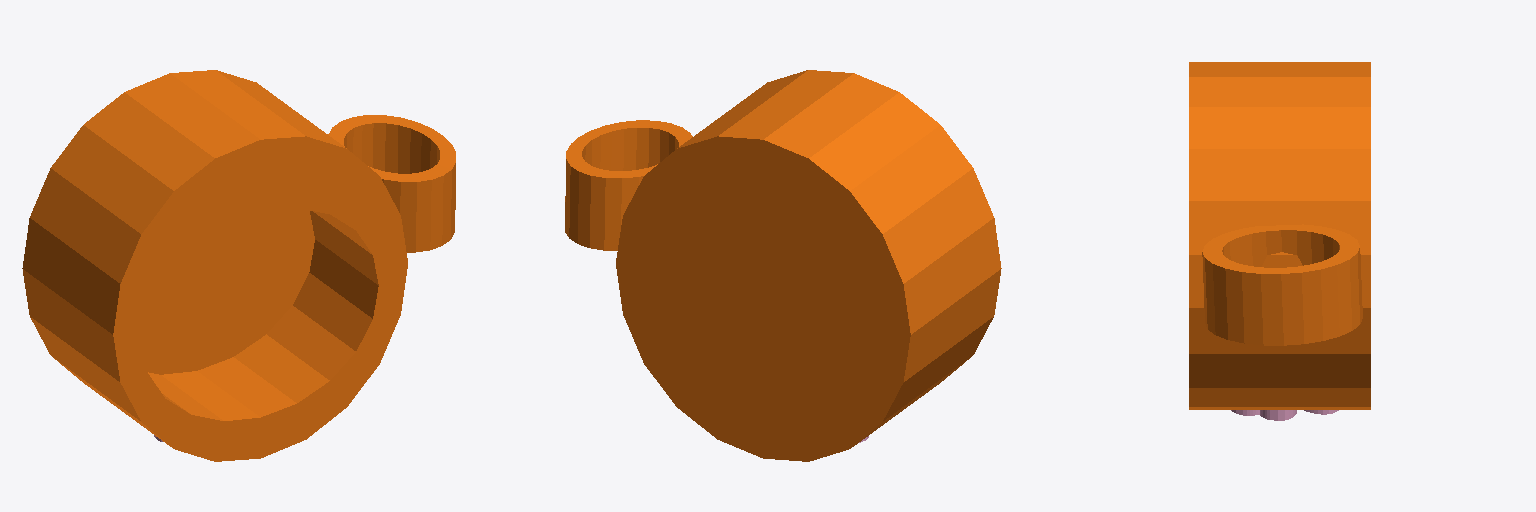
Rendered from tinker.obj.
The picture shows the model from 3 angles: view 1: azimuth 30°, elevation 25°; view 2: azimuth 150°, elevation 25°; view 3: azimuth 270°, elevation 25°; orthographic projection.
Parts seen in each view (by area): view 1: obj_0; view 2: obj_0; view 3: obj_0.
Boxes of the visible parts, x1=… form: obj_0: x1=22, y1=70, x2=455, y2=461; obj_0: x1=565, y1=70, x2=1001, y2=461; obj_0: x1=1189, y1=62, x2=1370, y2=420.
Size of the model in its own units: 55 by 44.54 by 23.